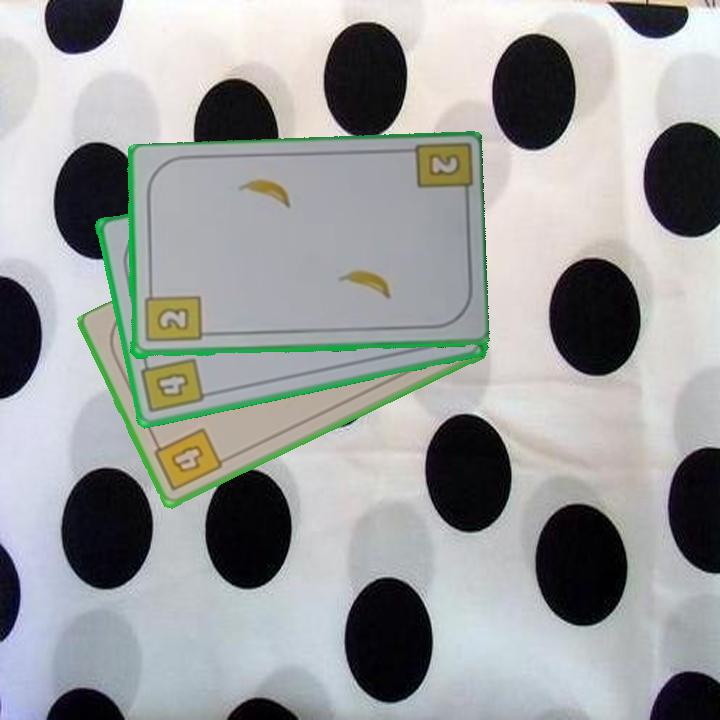2b: (140, 284, 203, 346), (424, 150, 464, 180)
4b: (149, 424, 226, 495), (138, 353, 207, 417)
